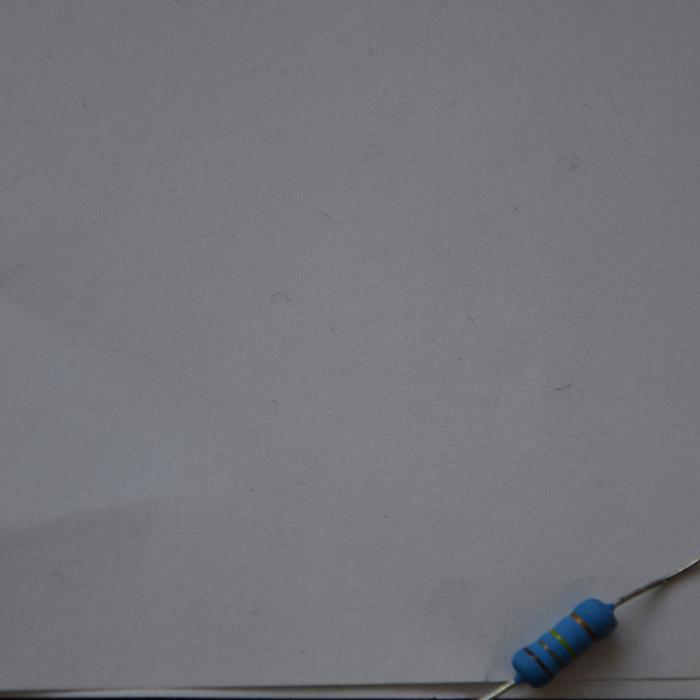resistor: (510, 596, 617, 688)
